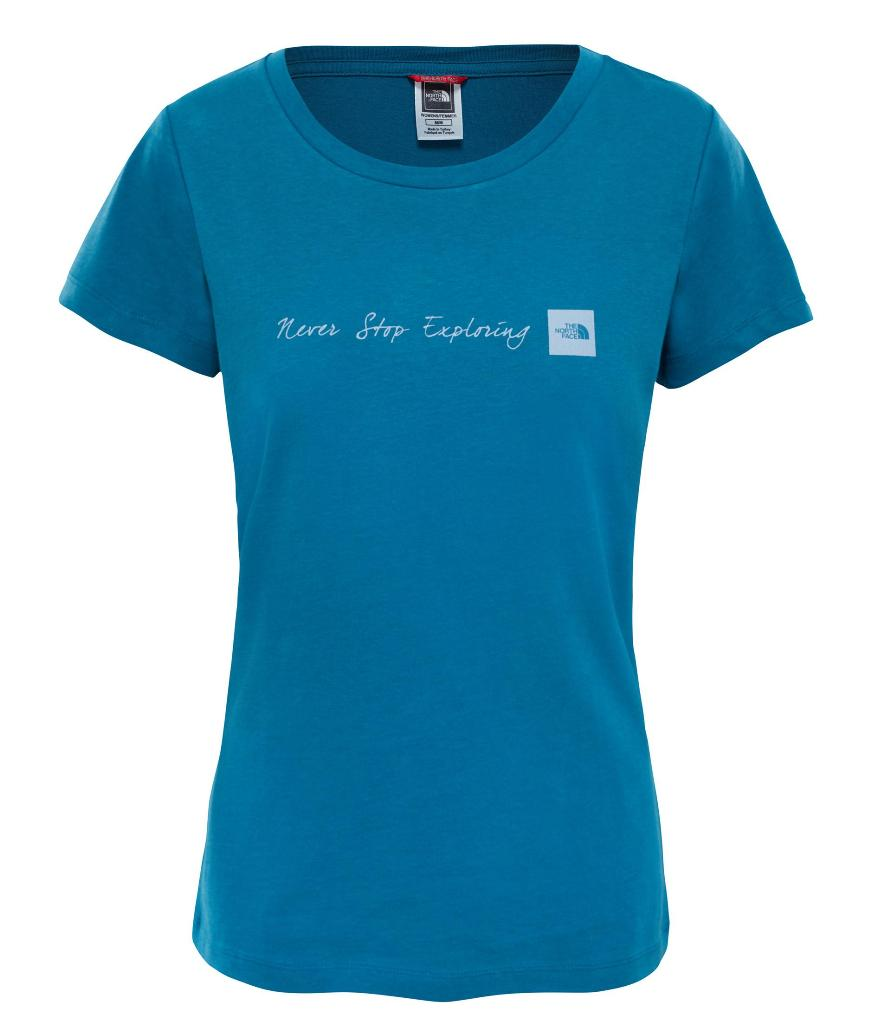T-Shirt: (46, 38, 800, 1003)
